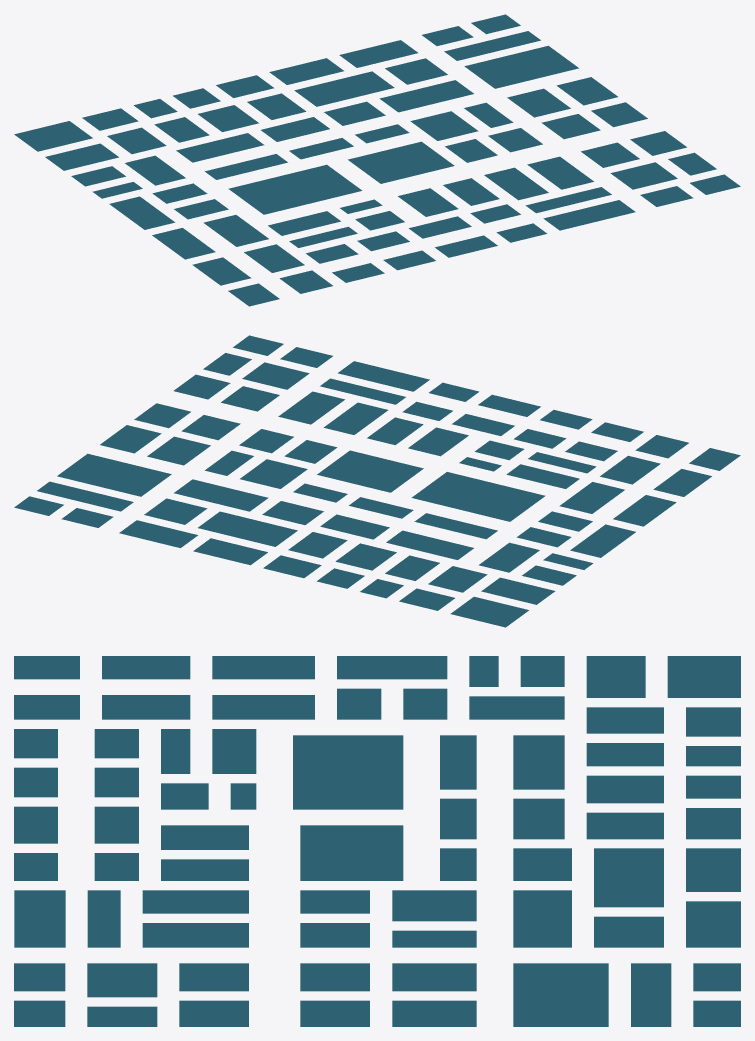
File: Lands.fbx
The picture shows the model from 3 angles, top to bottom: view 1: azimuth 30°, elevation 25°; view 2: azimuth 150°, elevation 25°; view 3: azimuth 270°, elevation 25°; orthographic projection. The views are drawn at different scales.
Visible parts, largest first — view 1: Cube.952, Cube.980, Cube.951, Cube.975, Cube.979, Cube.960, Cube.1006, Cube.969, Cube.1004, Cube.984, Cube.981, Cube.977 (+57 smaller); view 2: Cube.952, Cube.980, Cube.951, Cube.975, Cube.979, Cube.960, Cube.1006, Cube.969, Cube.1004, Cube.981, Cube.984, Cube.977 (+57 smaller); view 3: Cube.952, Cube.980, Cube.951, Cube.975, Cube.979, Cube.960, Cube.1006, Cube.969, Cube.984, Cube.1004, Cube.954, Cube.981 (+59 smaller).
Part boxes in pixels (bbox=[...]): Cube.952: bbox=[228, 164, 362, 214]; Cube.980: bbox=[464, 45, 578, 88]; Cube.951: bbox=[348, 141, 454, 183]; Cube.975: bbox=[294, 71, 394, 106]; Cube.979: bbox=[379, 80, 473, 112]; Cube.960: bbox=[14, 121, 92, 151]; Cube.1006: bbox=[543, 200, 635, 230]; Cube.969: bbox=[176, 133, 264, 162]; Cube.1004: bbox=[527, 156, 593, 189]; Cube.984: bbox=[410, 111, 478, 140]; Cube.981: bbox=[444, 31, 540, 60]; Cube.977: bbox=[339, 40, 417, 67]; Cube.952: bbox=[411, 472, 545, 521]; Cube.980: bbox=[57, 453, 171, 496]; Cube.951: bbox=[317, 450, 423, 492]; Cube.975: bbox=[198, 511, 297, 546]; Cube.979: bbox=[174, 479, 268, 511]; Cube.960: bbox=[450, 596, 528, 627]; Cube.1006: bbox=[338, 361, 429, 391]; Cube.969: bbox=[386, 530, 473, 559]; Cube.1004: bbox=[278, 391, 344, 424]; Cube.981: bbox=[37, 481, 133, 511]; Cube.984: bbox=[240, 459, 307, 488]; Cube.977: bbox=[119, 520, 197, 547]; Cube.952: bbox=[293, 735, 403, 809]; Cube.980: bbox=[513, 963, 608, 1026]; Cube.951: bbox=[300, 825, 403, 880]; Cube.975: bbox=[594, 848, 663, 907]; Cube.979: bbox=[513, 890, 571, 947]; Cube.960: bbox=[667, 656, 740, 697]; Cube.1006: bbox=[14, 890, 65, 947]; Cube.969: bbox=[513, 735, 564, 789]; Cube.984: bbox=[392, 890, 476, 921]; Cube.1004: bbox=[142, 923, 248, 947]; Cube.954: bbox=[337, 656, 447, 679]; Cube.981: bbox=[631, 963, 671, 1026].
Bounding box in the file's own units: 239 × 2.24e-08 × 198.
